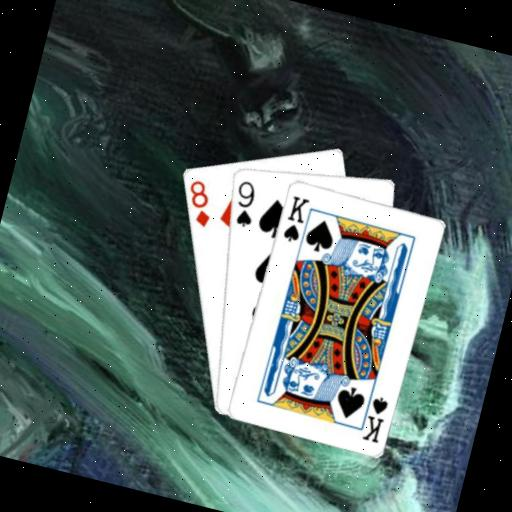8D: (177, 175, 220, 230)
9S: (225, 176, 262, 231)
KS: (354, 386, 393, 445), (279, 191, 312, 246)
